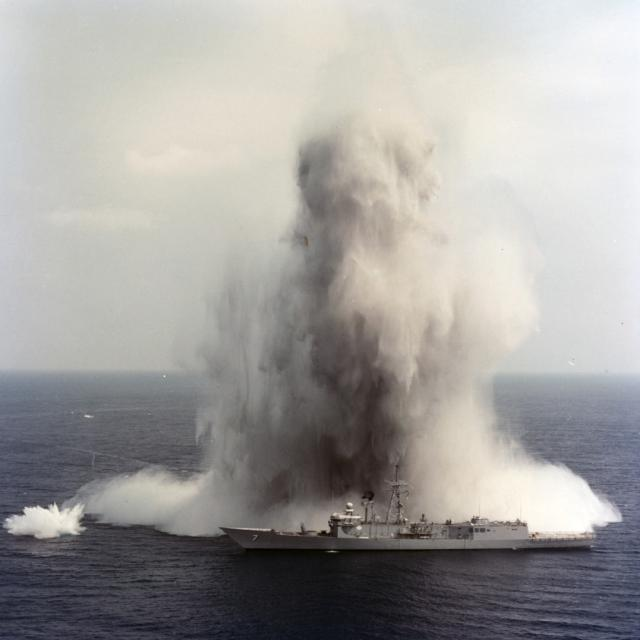Boat: (192, 455, 622, 564)
